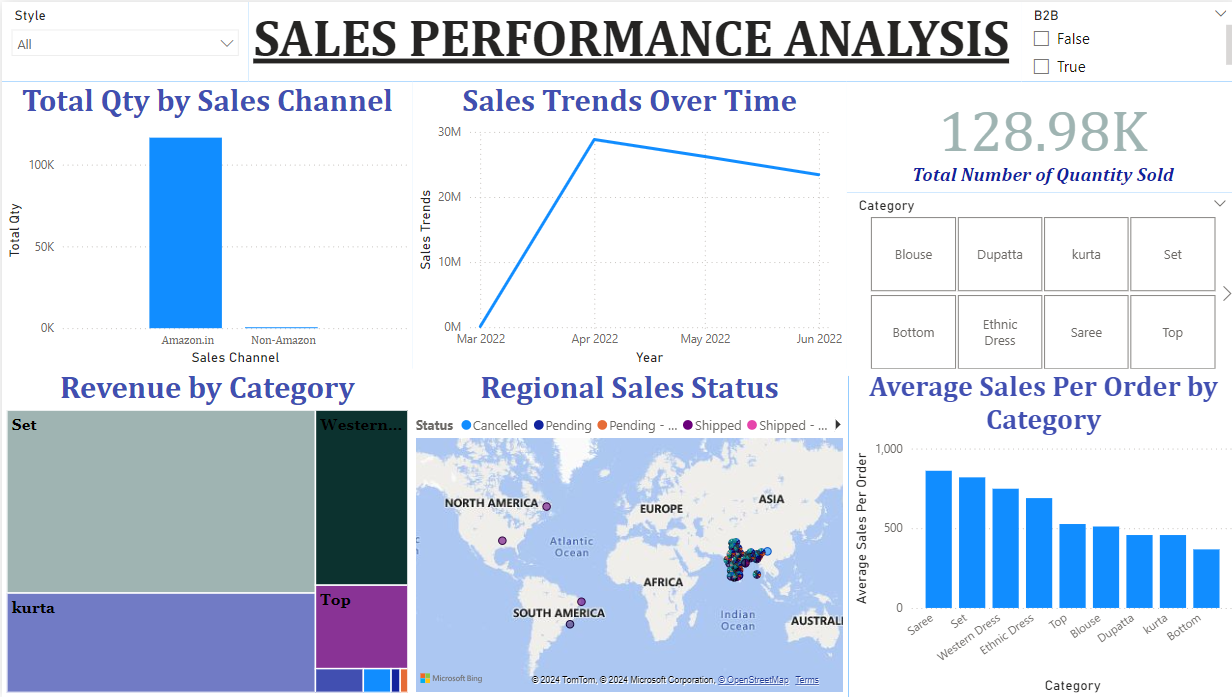

The page's visual inventory and layout, read from the dashboard file:
{"tool":"powerbi","page":{"name":"Page 1","canvas":[1280,720],"ordinal":0},"visuals":[{"type":"textbox","box":[255.7,0,800.4,82],"z":0},{"type":"columnChart","fields":{"Category":["Amazon Sale Report.Sales Channel "],"Y":["Sum(Amazon Sale Report.Qty)"]},"box":[0,82.5,425,297.5],"z":1000},{"type":"treemap","fields":{"Group":["Amazon Sale Report.Category"],"Values":["Sum(Amazon Sale Report.Amount)"]},"box":[0,380,425,340],"z":2000},{"type":"lineChart","title":"Sales Trends Over Time","fields":{"Y":["Sum(Amazon Sale Report.Amount)"],"Category":["Amazon Sale Report.Date.Variation.Date Hierarchy.Year","Amazon Sale Report.Date.Variation.Date Hierarchy.Month"]},"box":[425,82.5,450,297.5],"z":3000},{"type":"map","title":"Regional Sales Status","fields":{"Category":["Amazon Sale Report.ship-state"],"Series":["Amazon Sale Report.Status"]},"box":[423.8,380,452.5,340],"z":4000},{"type":"slicer","fields":{"Values":["Amazon Sale Report.B2B"]},"box":[1055.2,0,225.4,82.1],"z":5000},{"type":"slicer","fields":{"Values":["Amazon Sale Report.Style"]},"box":[0,0,255.2,82.1],"z":6000},{"type":"card","fields":{"Values":["CountNonNull(Amazon Sale Report.Qty)"]},"box":[874,82,407.1,113.9],"z":7000},{"type":"slicer","fields":{"Values":["Amazon Sale Report.Category"]},"box":[876.8,190.4,403,189],"z":8000},{"type":"clusteredColumnChart","fields":{"Y":["Amazon Sale Report.Average Sales Per Order"],"Category":["Amazon Sale Report.Category"]},"box":[877,380,403,340],"z":9000}]}

Visuals, with their boxes in screenshot pixels (x1, y1, x2, y2), scaled from the page's 1280x720 canvas onto the 1232x697 screenshot:
textbox: [246, 0, 1016, 79]
columnChart - Amazon Sale Report.Sales Channel  x Sum(Amazon Sale Report.Qty): [0, 80, 409, 368]
treemap - Amazon Sale Report.Category x Sum(Amazon Sale Report.Amount): [0, 368, 409, 696]
"Sales Trends Over Time" lineChart: [409, 80, 842, 368]
"Regional Sales Status" map: [408, 368, 843, 696]
slicer - Amazon Sale Report.B2B: [1016, 0, 1231, 79]
slicer - Amazon Sale Report.Style: [0, 0, 246, 79]
card - CountNonNull(Amazon Sale Report.Qty): [841, 79, 1231, 190]
slicer - Amazon Sale Report.Category: [844, 184, 1231, 367]
clusteredColumnChart - Amazon Sale Report.Average Sales Per Order x Amazon Sale Report.Category: [844, 368, 1231, 696]
